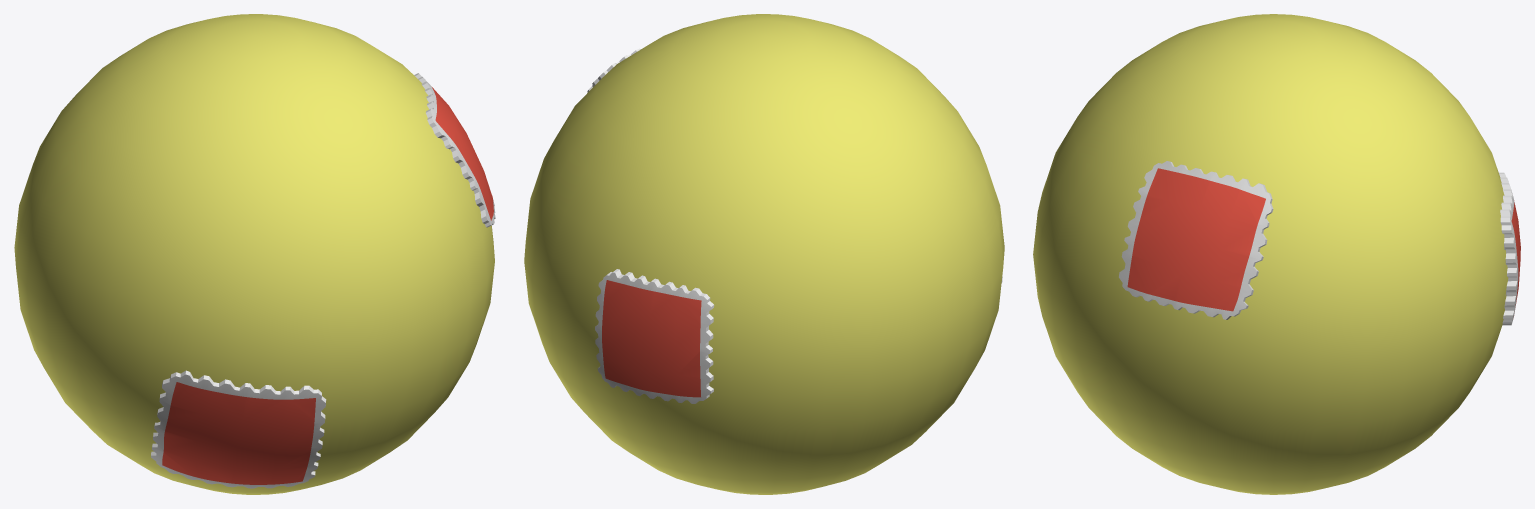
Rendered from sphere_three_stamp.fbx.
3 views of the same model, side by side, from view 1: azimuth 30°, elevation 25°; view 2: azimuth 150°, elevation 25°; view 3: azimuth 270°, elevation 25° (orthographic).
Parts seen in each view (by area): view 1: Sphere, Cube.002, Cube.001; view 2: Sphere, Cube; view 3: Sphere, Cube.001, Cube.
Boxes of the visible parts, <box> form: Sphere: <box>14,14,494,494</box>; Cube.002: <box>151,370,326,488</box>; Cube.001: <box>414,73,495,227</box>; Sphere: <box>524,14,1004,494</box>; Cube: <box>595,269,714,403</box>; Sphere: <box>1033,14,1508,494</box>; Cube.001: <box>1119,161,1273,319</box>; Cube: <box>1499,172,1520,325</box>.
Bounding box in the file's own units: 100 × 100 × 101.
